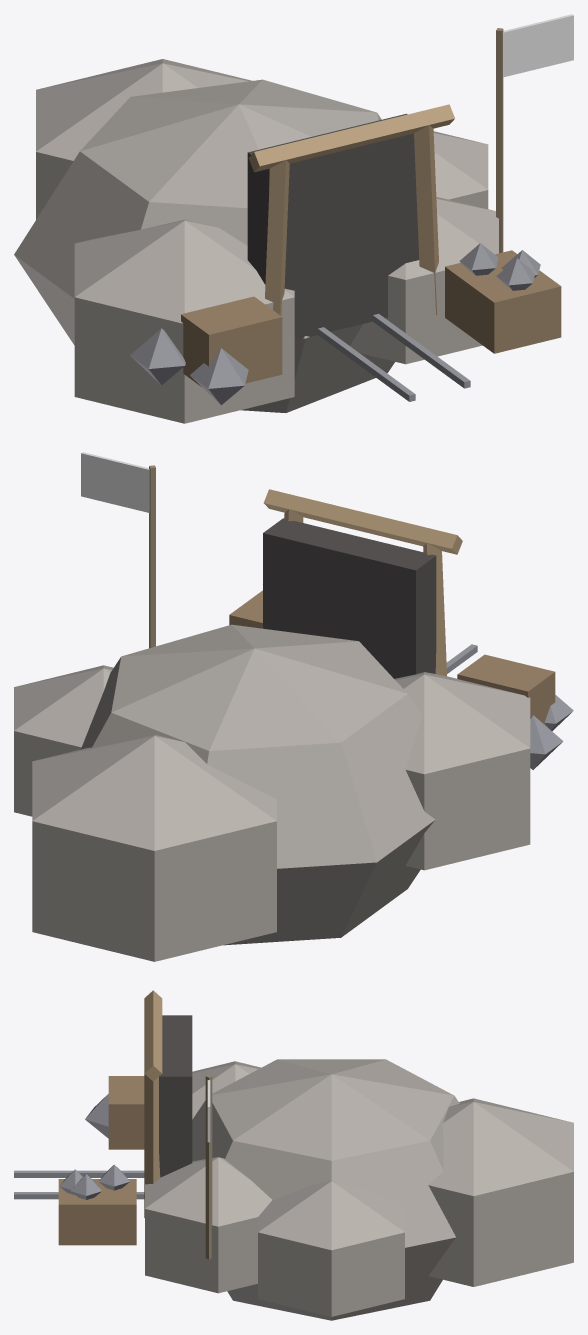
3 renders of one model, top to bottom at view 1: azimuth 30°, elevation 25°; view 2: azimuth 150°, elevation 25°; view 3: azimuth 270°, elevation 25°, orthographic. The views are drawn at different scales.
Visible parts, largest first — view 1: body; view 2: body; view 3: body.
Part boxes in pixels (<box>): body: <box>14,14,573,423</box>; body: <box>14,452,573,961</box>; body: <box>14,990,573,1320</box>.
Bounding box in the file's own units: 7.89 × 5.84 × 10.05.
